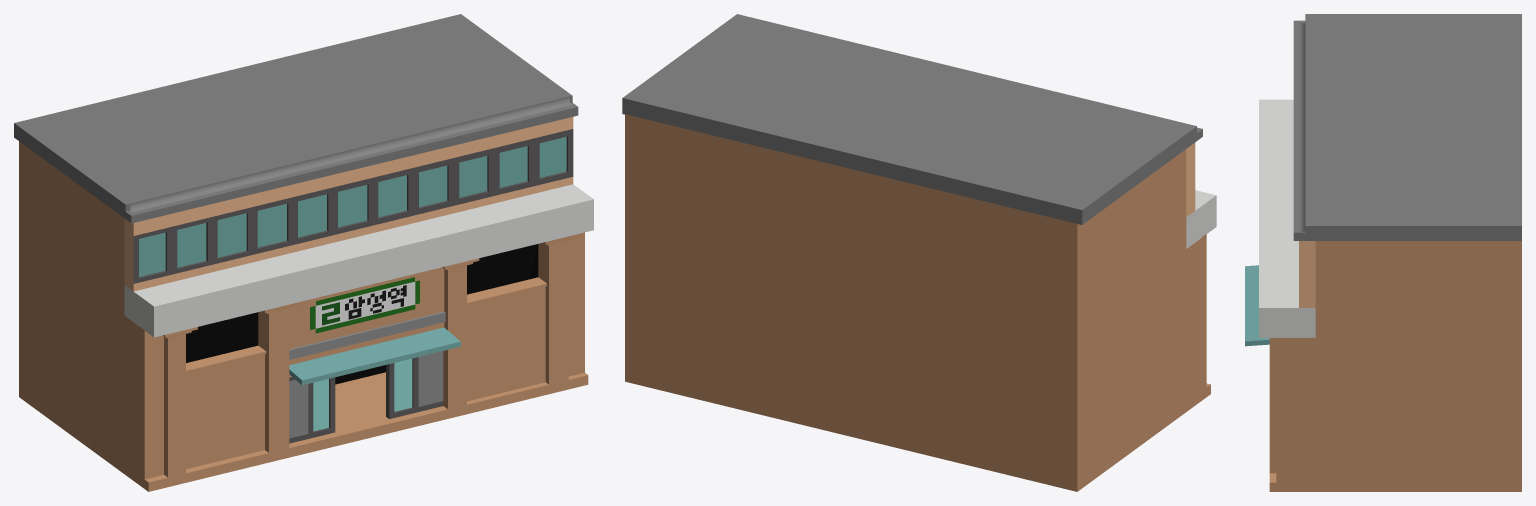
File: 열린 삼성역.fbx
3 renders of one model, left to right at view 1: azimuth 30°, elevation 25°; view 2: azimuth 150°, elevation 25°; view 3: azimuth 270°, elevation 25°, orthographic. The views are drawn at different scales.
Parts seen in each view (by area): view 1: Box001; view 2: Box001; view 3: Box001.
Boxes of the visible parts, x1=… form: Box001: x1=14, y1=14, x2=593, y2=491; Box001: x1=622, y1=14, x2=1216, y2=491; Box001: x1=1245, y1=14, x2=1521, y2=491.
Size of the model in its own units: 50.81 by 29.89 by 28.05.
1 material, 1 textured.
